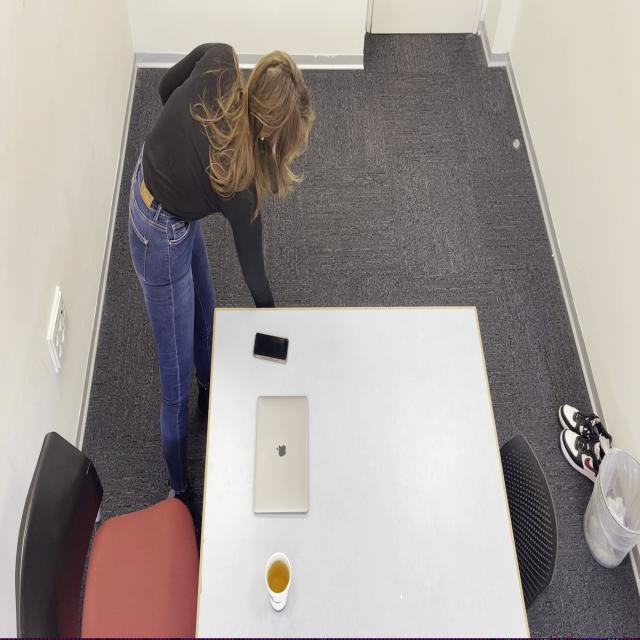bag: (253, 331, 288, 364)
ipad: (127, 41, 315, 556)
laptop: (252, 394, 309, 514)
